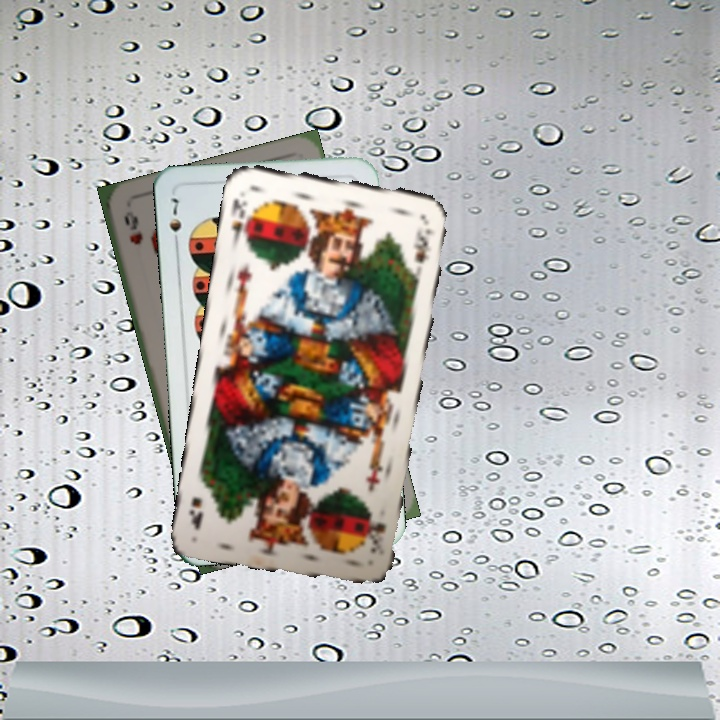H9: (120, 207, 145, 247)
S7: (165, 194, 184, 250)
SK: (227, 194, 254, 247), (366, 519, 389, 558)
